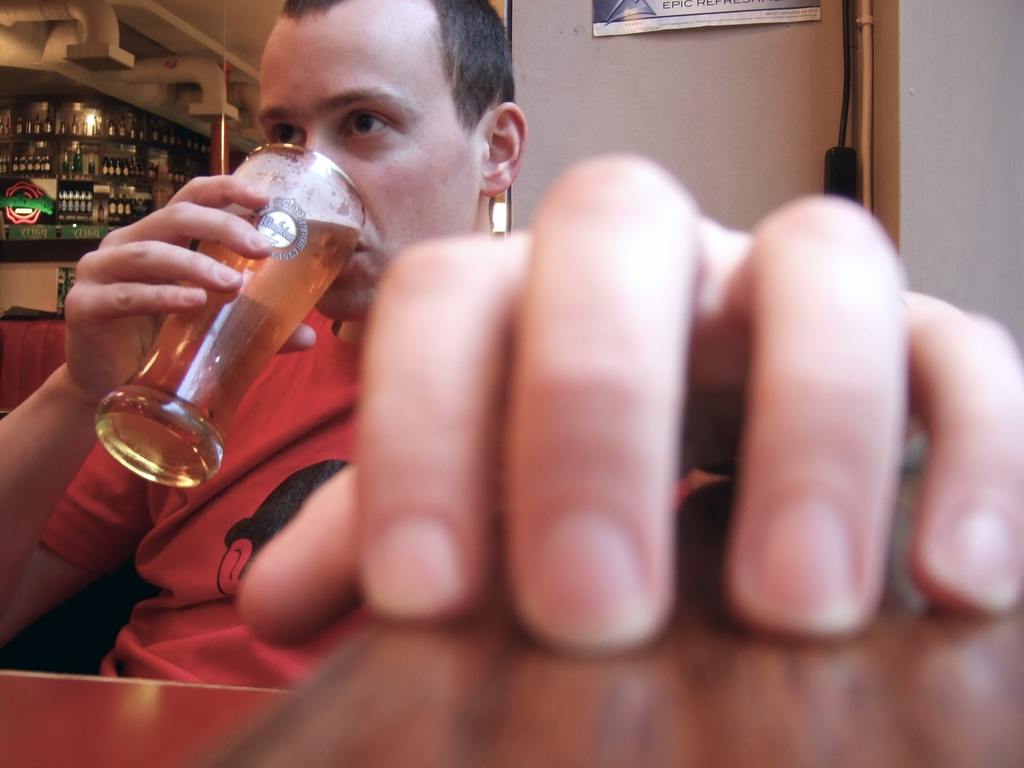Beer: (94, 159, 364, 485)
